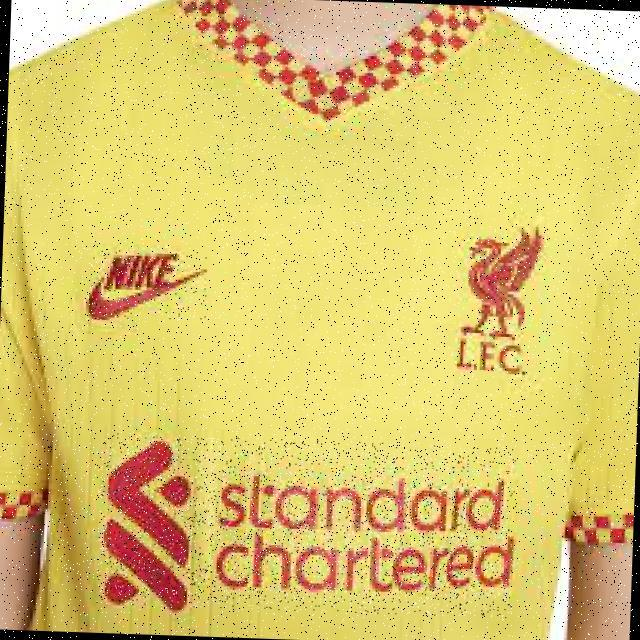Nike: (86, 248, 208, 325)
Standard Chartered: (96, 432, 517, 618)
